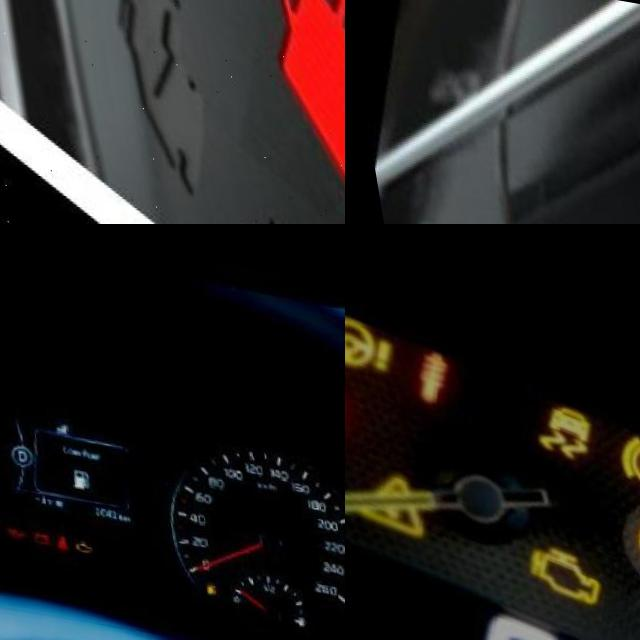Seat Belt: (44, 526, 60, 546)
